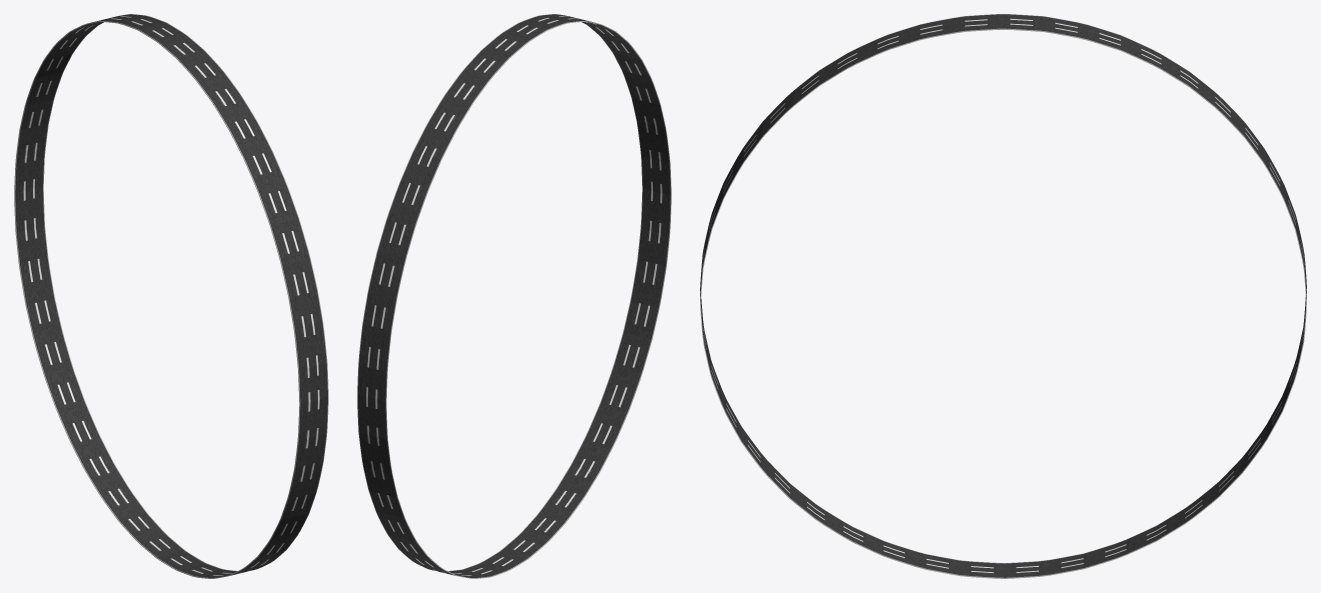
Rendered from Homepafafge.fbx.
3 views of the same model, side by side, from view 1: azimuth 30°, elevation 25°; view 2: azimuth 150°, elevation 25°; view 3: azimuth 270°, elevation 25° (orthographic). The views are drawn at different scales.
Parts seen in each view (by area): view 1: Cube.002; view 2: Cube.002; view 3: Cube.002.
Part boxes in pixels (x1=…): Cube.002: x1=14, y1=14, x2=328, y2=578; Cube.002: x1=357, y1=14, x2=671, y2=578; Cube.002: x1=700, y1=14, x2=1306, y2=578.
Bounding box in the file's own units: 357 × 6053 × 6054.
Materials: 2 (2 with a texture image).
